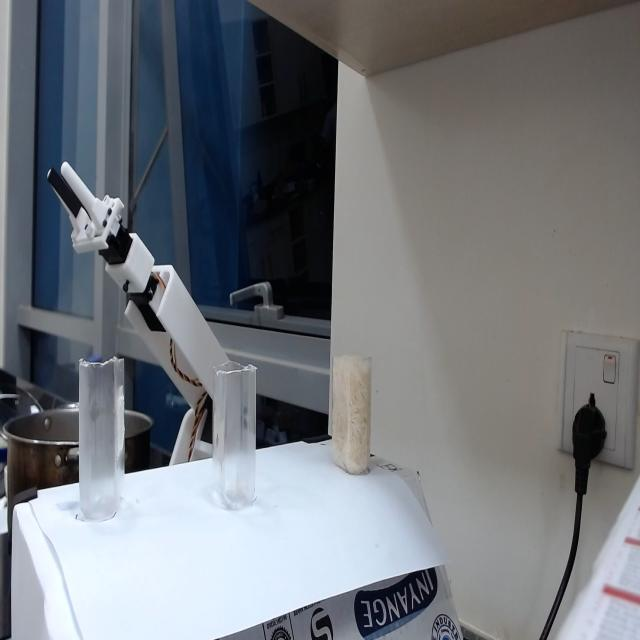raw_rice: (333, 365, 373, 476)
